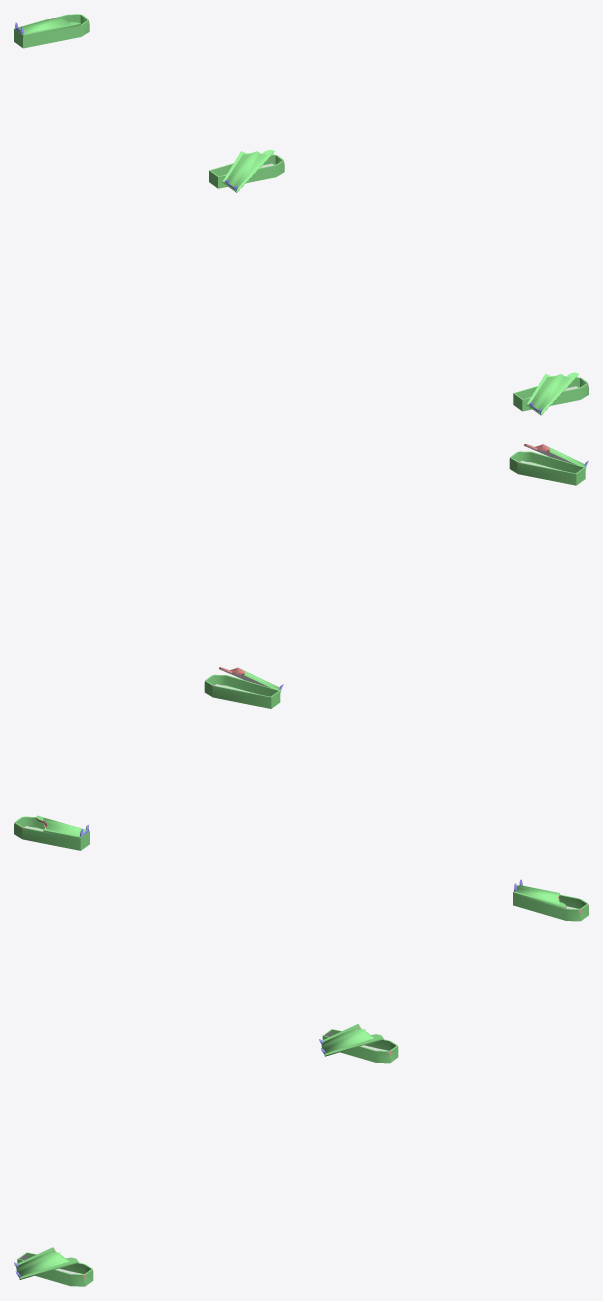
The model's file is SSQ_coffin_Bset01.gltf.
3 renders of one model, top to bottom at view 1: azimuth 30°, elevation 25°; view 2: azimuth 150°, elevation 25°; view 3: azimuth 330°, elevation 25°, orthographic.
Parts seen in each view (by area): view 1: SSQ_coffin_Bset01; view 2: SSQ_coffin_Bset01; view 3: SSQ_coffin_Bset01.
Boxes of the visible parts, <box> form: SSQ_coffin_Bset01: <box>14,14,588,415</box>; SSQ_coffin_Bset01: <box>14,444,588,850</box>; SSQ_coffin_Bset01: <box>14,879,588,1286</box>.
Bounding box in the file's own units: 0.6696 × 0.2507 × 8.65.
